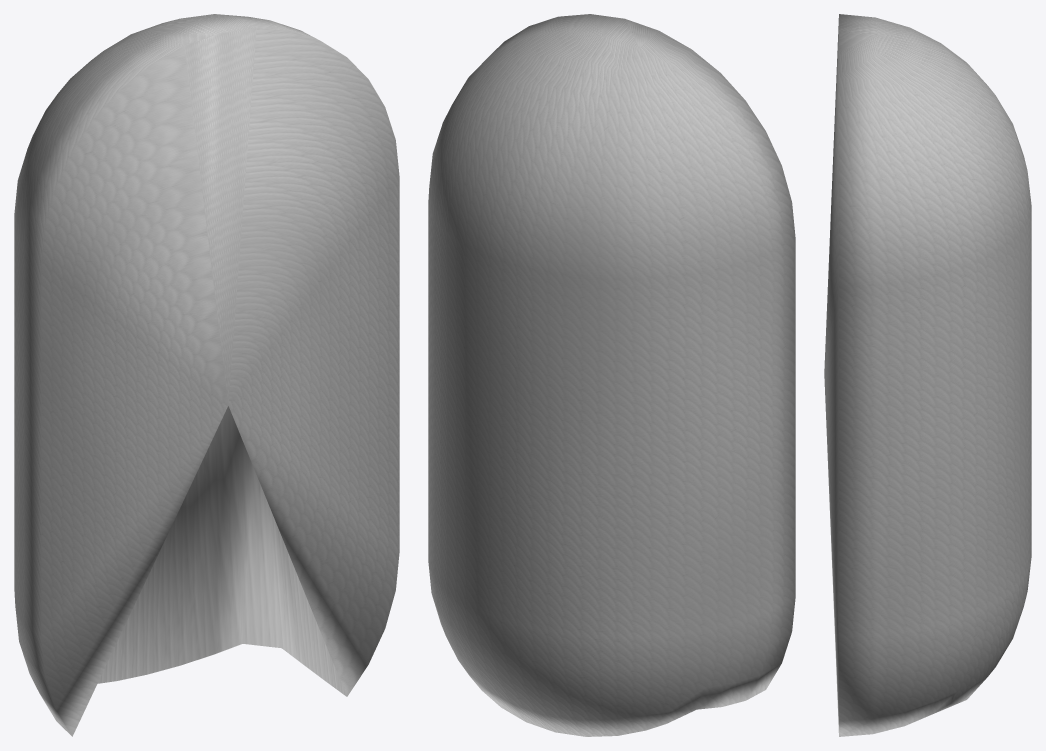
File: FakeSabanaProbuilderExport.obj
3 views of the same model, side by side, from view 1: azimuth 30°, elevation 25°; view 2: azimuth 150°, elevation 25°; view 3: azimuth 270°, elevation 25° (orthographic). The views are drawn at different scales.
Parts seen in each view (by area): view 1: FakeSabanaProbuilderExport; view 2: FakeSabanaProbuilderExport; view 3: FakeSabanaProbuilderExport.
Boxes of the visible parts, bbox=[...] form: FakeSabanaProbuilderExport: bbox=[14, 14, 399, 736]; FakeSabanaProbuilderExport: bbox=[428, 14, 795, 736]; FakeSabanaProbuilderExport: bbox=[824, 14, 1031, 736].
Bounding box in the file's own units: 1 × 1.85 × 0.5382.
1 material, 1 textured.
